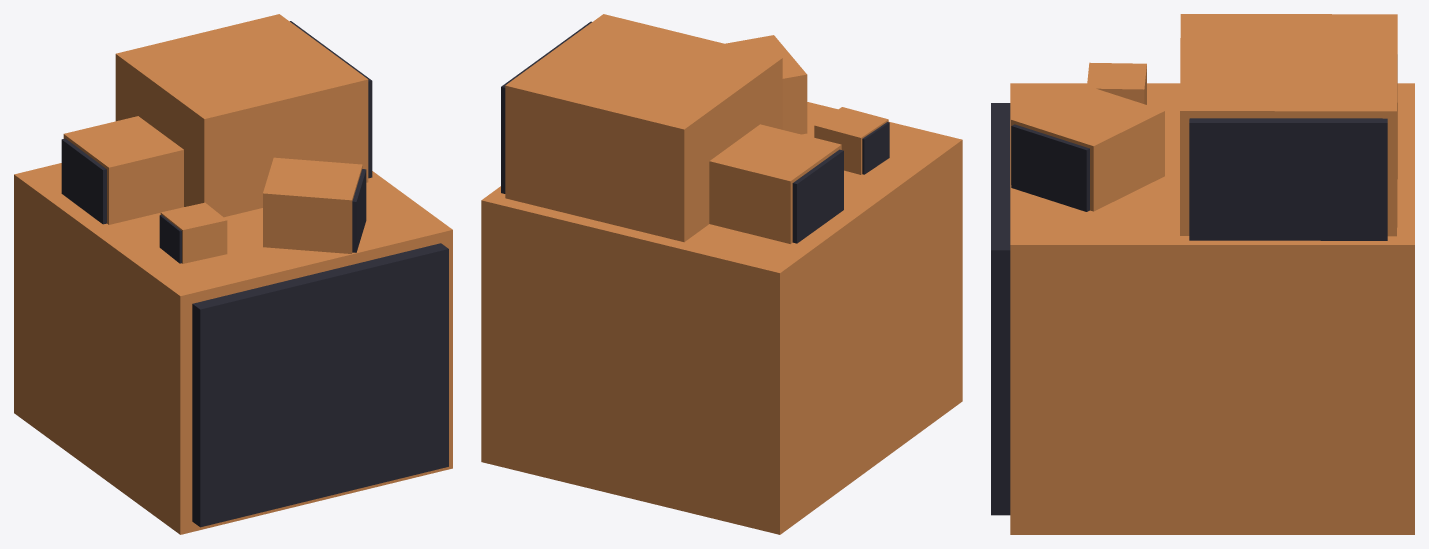
The model's file is CableBox.fbx.
3 renders of one model, left to right at view 1: azimuth 30°, elevation 25°; view 2: azimuth 150°, elevation 25°; view 3: azimuth 270°, elevation 25°, orthographic. The views are drawn at different scales.
Parts seen in each view (by area): view 1: CableBox, pCube139, pCube142, pCube140, pCube141; view 2: CableBox, pCube139, pCube142, pCube141, pCube140; view 3: CableBox, pCube139, pCube140, pCube141.
Boxes of the visible parts, bbox=[...] form: CableBox: bbox=[14, 163, 452, 534]; pCube139: bbox=[115, 14, 372, 217]; pCube142: bbox=[61, 116, 183, 224]; pCube140: bbox=[263, 157, 366, 253]; pCube141: bbox=[159, 202, 227, 263]; CableBox: bbox=[481, 102, 962, 534]; pCube139: bbox=[501, 14, 782, 242]; pCube142: bbox=[709, 124, 843, 243]; pCube141: bbox=[814, 107, 889, 174]; pCube140: bbox=[725, 35, 807, 134]; CableBox: bbox=[991, 83, 1414, 534]; pCube139: bbox=[1180, 14, 1397, 240]; pCube140: bbox=[1011, 84, 1164, 211]; pCube141: bbox=[1087, 62, 1146, 104].
Bounding box in the file's own units: 1 × 1.2 × 1.11.
